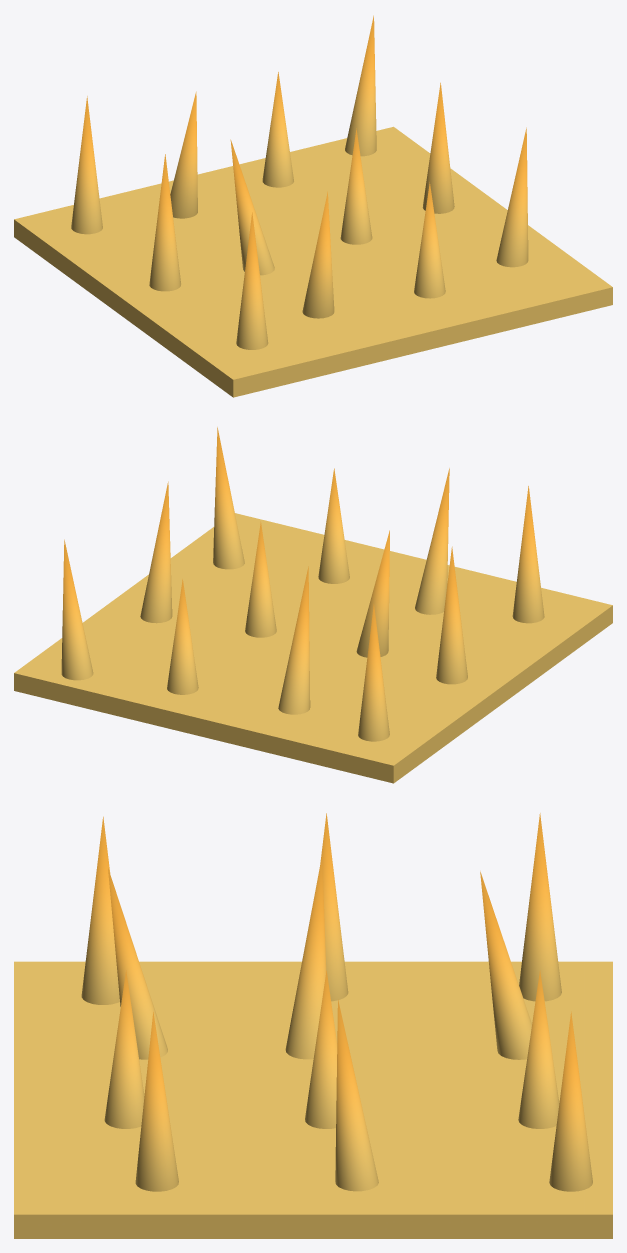
Rendered from SpikeTrap.fbx.
The picture shows the model from 3 angles, top to bottom: view 1: azimuth 30°, elevation 25°; view 2: azimuth 150°, elevation 25°; view 3: azimuth 270°, elevation 25°; orthographic projection. The views are drawn at different scales.
Parts seen in each view (by area): view 1: Spikes; view 2: Spikes; view 3: Spikes.
Part boxes in pixels (box(x1,y1,x2,y2)): Spikes: box(14, 15, 612, 397); Spikes: box(14, 427, 612, 783); Spikes: box(14, 813, 612, 1238).
Size of the model in its own units: 3.52 by 1.33 by 3.52.
1 material, 1 textured.
